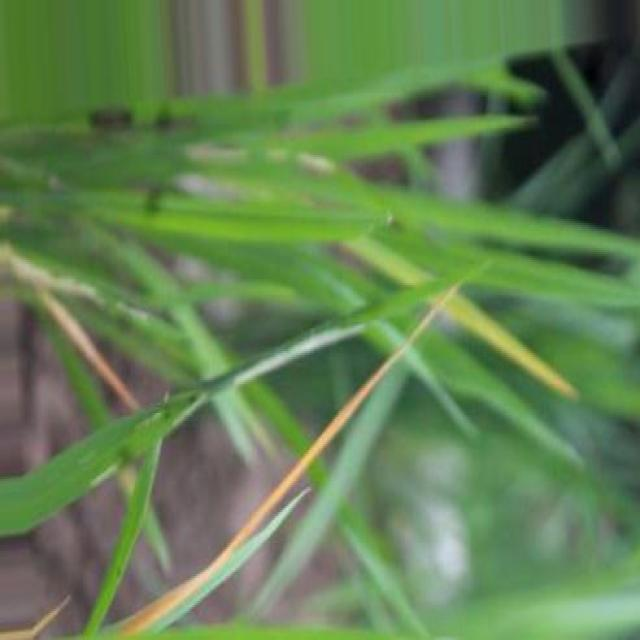Rice Tungro: (104, 287, 458, 639), (446, 295, 578, 399), (38, 289, 140, 410)
